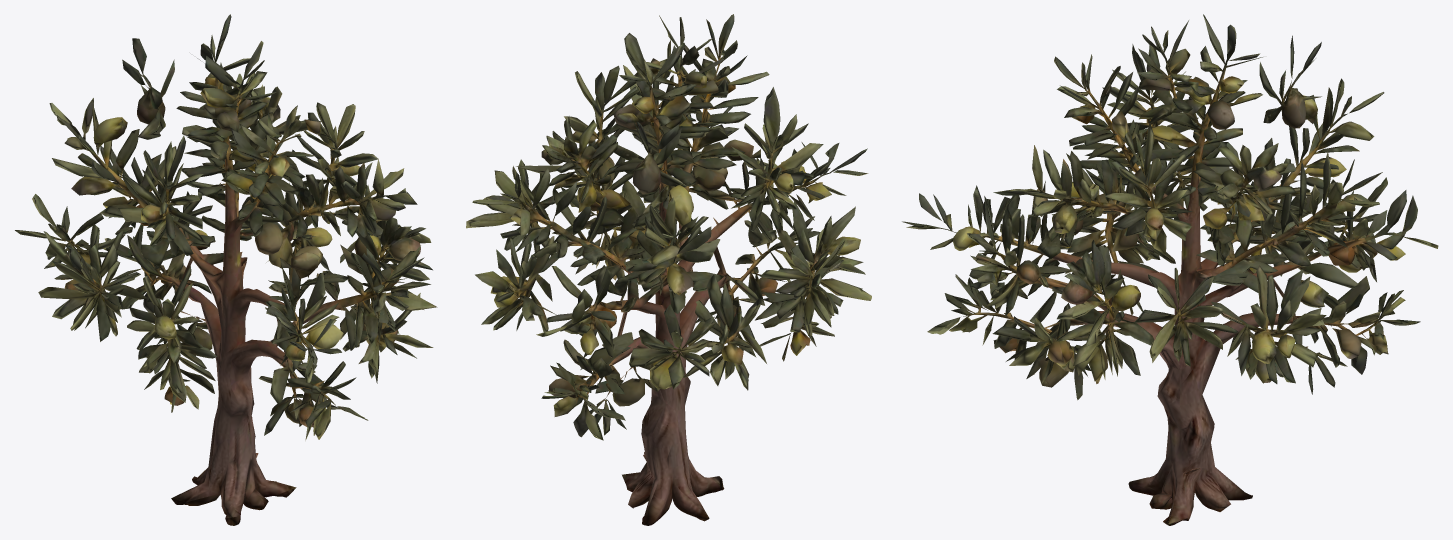
The model's file is olive_tree_game.glb.
The picture shows the model from 3 angles, left to right: view 1: azimuth 30°, elevation 25°; view 2: azimuth 150°, elevation 25°; view 3: azimuth 270°, elevation 25°; orthographic projection. The views are drawn at different scales.
Visible parts, largest first — view 1: tripo_node_226857dd-0cb0-4b63-9f23-a830491f0ffa; view 2: tripo_node_226857dd-0cb0-4b63-9f23-a830491f0ffa; view 3: tripo_node_226857dd-0cb0-4b63-9f23-a830491f0ffa.
Part boxes in pixels (x1,y1,x2,y2): tripo_node_226857dd-0cb0-4b63-9f23-a830491f0ffa: (15, 14, 437, 525); tripo_node_226857dd-0cb0-4b63-9f23-a830491f0ffa: (466, 14, 871, 525); tripo_node_226857dd-0cb0-4b63-9f23-a830491f0ffa: (902, 14, 1438, 525).
Size of the model in its own units: 0.7841 by 0.9696 by 0.9706.
1 material, 1 textured.
